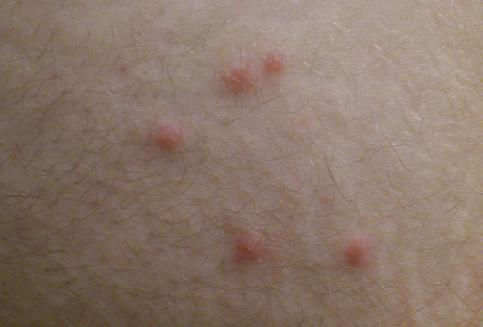Fleas: (340, 230, 404, 288), (146, 117, 191, 155), (255, 47, 292, 79), (234, 228, 265, 263), (221, 67, 253, 94)
